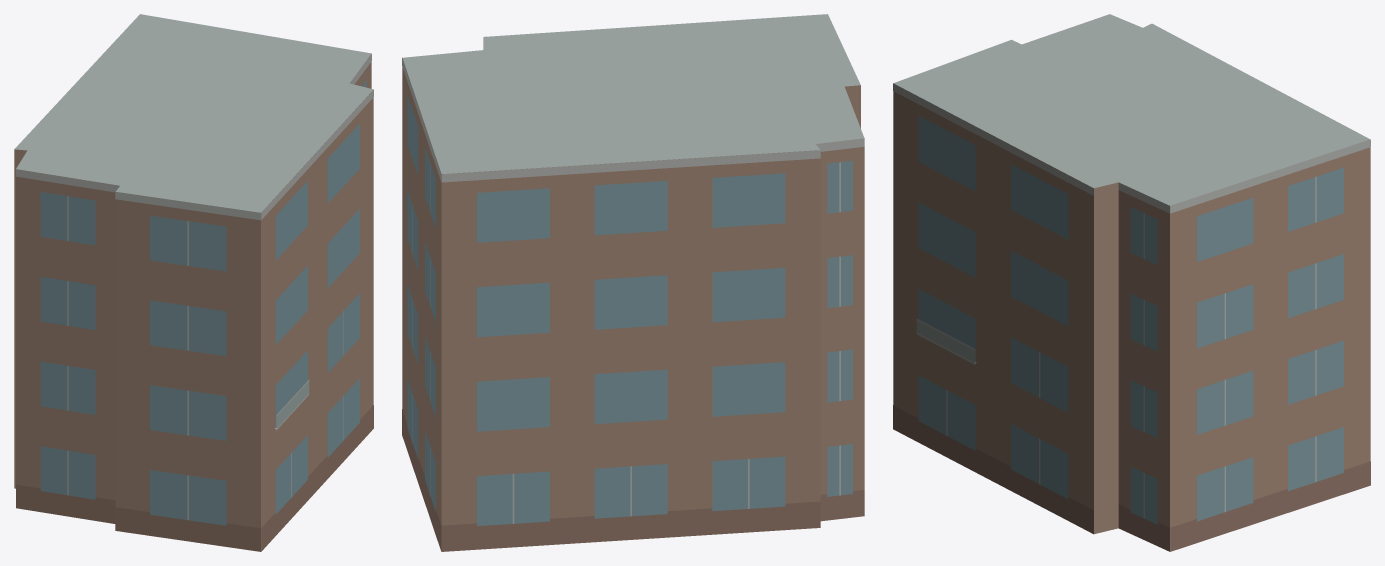
Rendered from survey-upis-32641357.glb.
3 views of the same model, side by side, from view 1: azimuth 30°, elevation 25°; view 2: azimuth 150°, elevation 25°; view 3: azimuth 270°, elevation 25° (orthographic). The views are drawn at different scales.
Parts seen in each view (by area): view 1: survey-upis-32641357.tmp; view 2: survey-upis-32641357.tmp; view 3: survey-upis-32641357.tmp.
Part boxes in pixels (left/top/right/bottom): survey-upis-32641357.tmp: left=14, top=14, right=373, bottom=551; survey-upis-32641357.tmp: left=402, top=14, right=864, bottom=551; survey-upis-32641357.tmp: left=893, top=14, right=1370, bottom=551.
Bounding box in the file's own units: 13.09 × 11 × 13.77.
